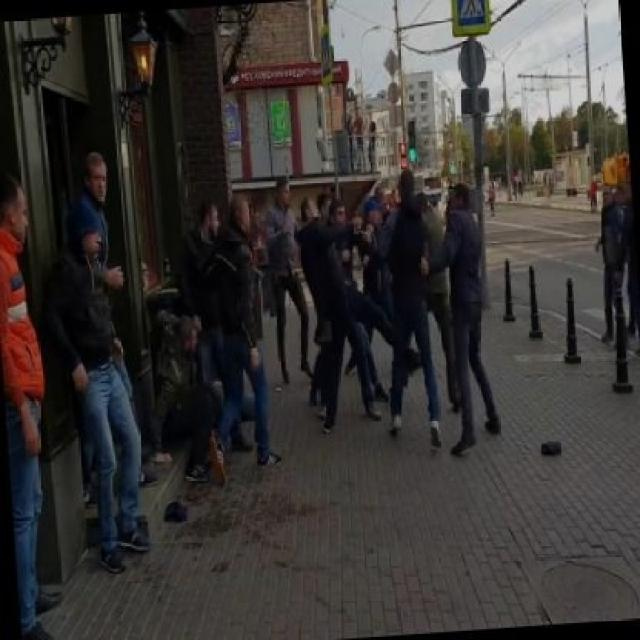fight: (286, 163, 459, 451)
non-fight: (42, 208, 151, 573), (411, 165, 500, 457), (186, 189, 277, 474)
